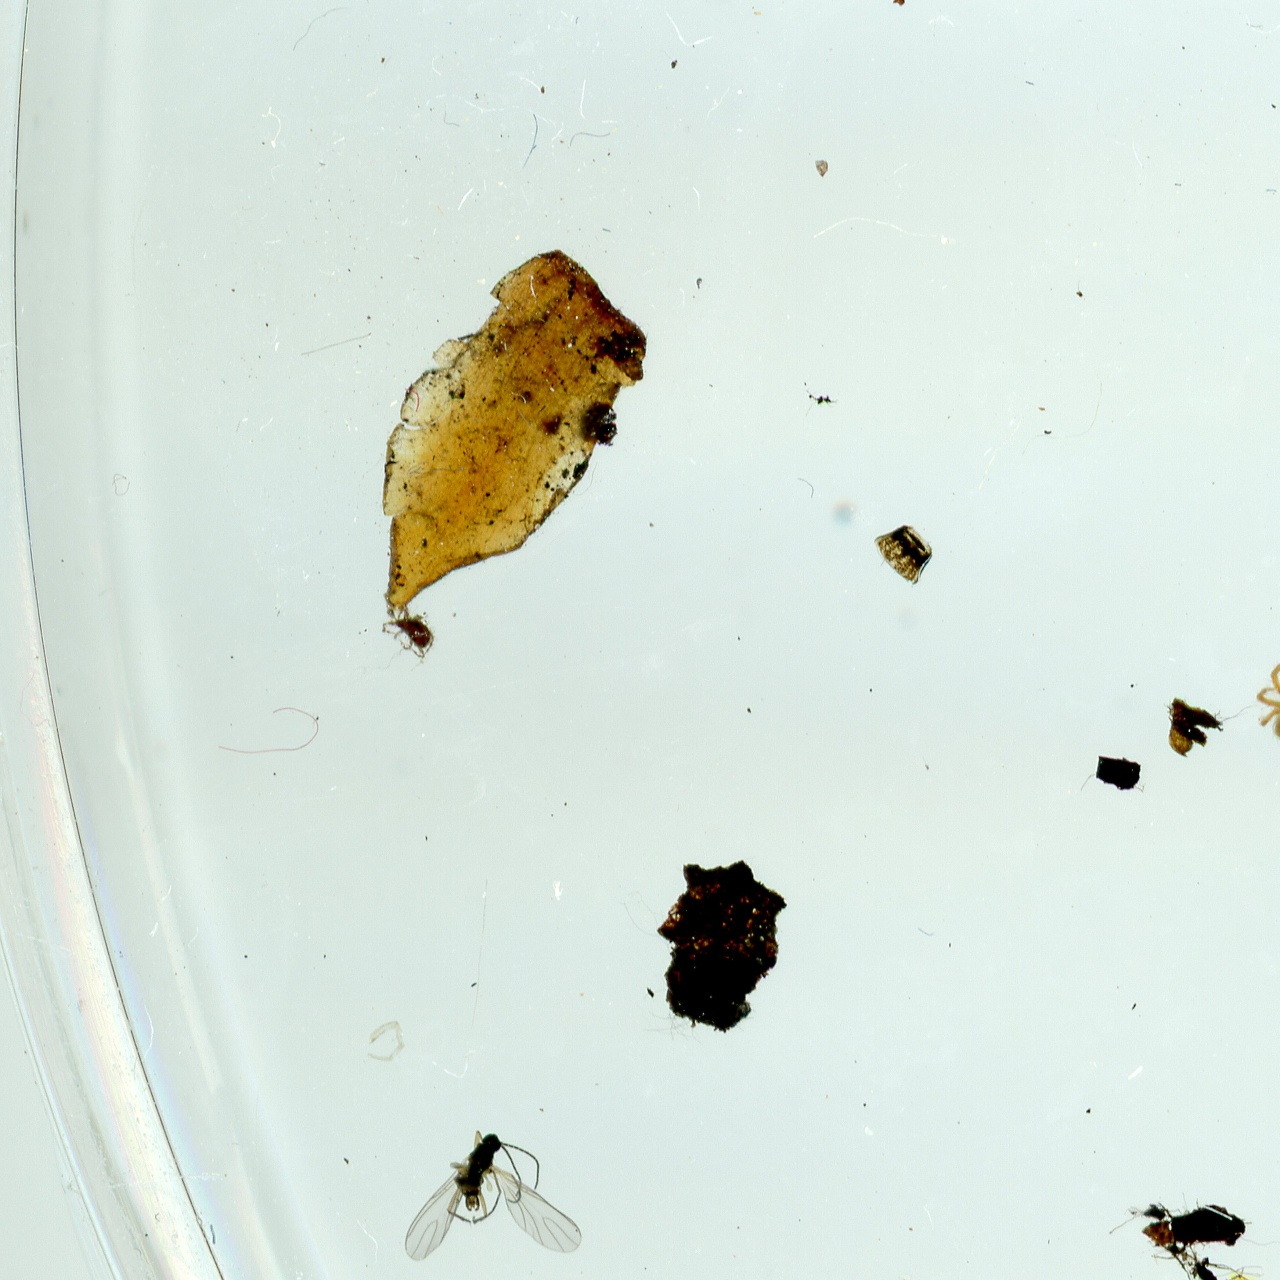arthropod: (394, 1119, 587, 1268), (1254, 662, 1280, 755), (392, 613, 437, 659)
